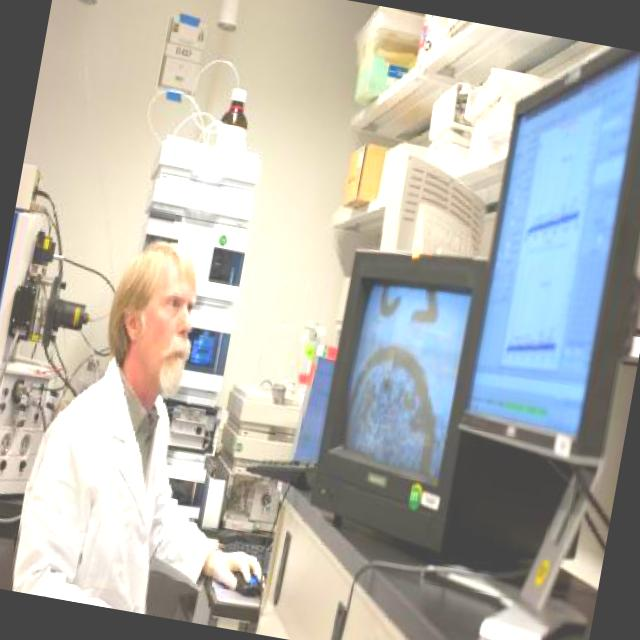Person: (9, 204, 256, 622)
